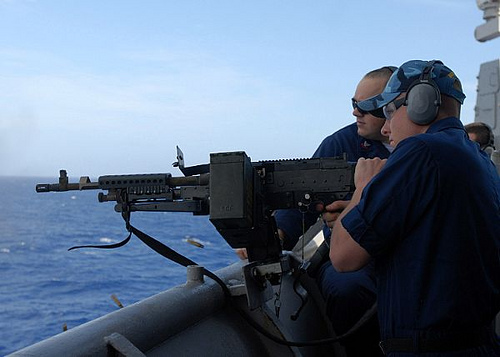rifle: (19, 159, 327, 278)
rifle in hand: (4, 153, 426, 304)
